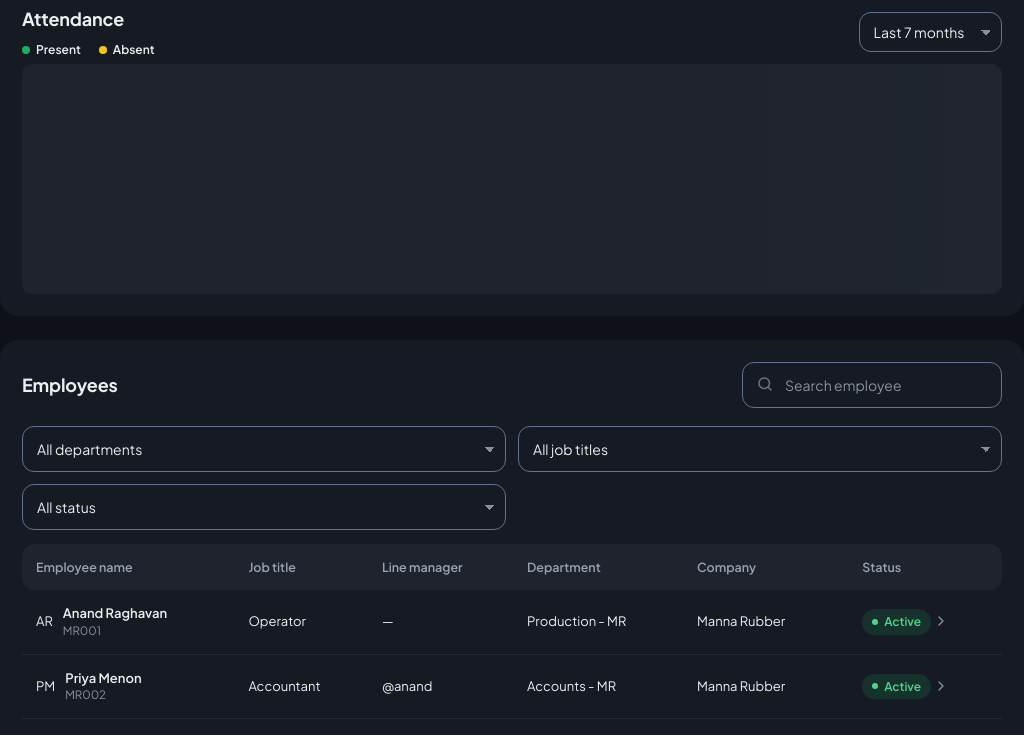
Test case: the front page › lists the active people five to a page, and finds one by name
The width and height of the screenshot is (1024, 735).
(page scrolled)
Type "Anand Raghavan" into the field named "Search employees" at x=872, y=385, box [742,362,1002,408]
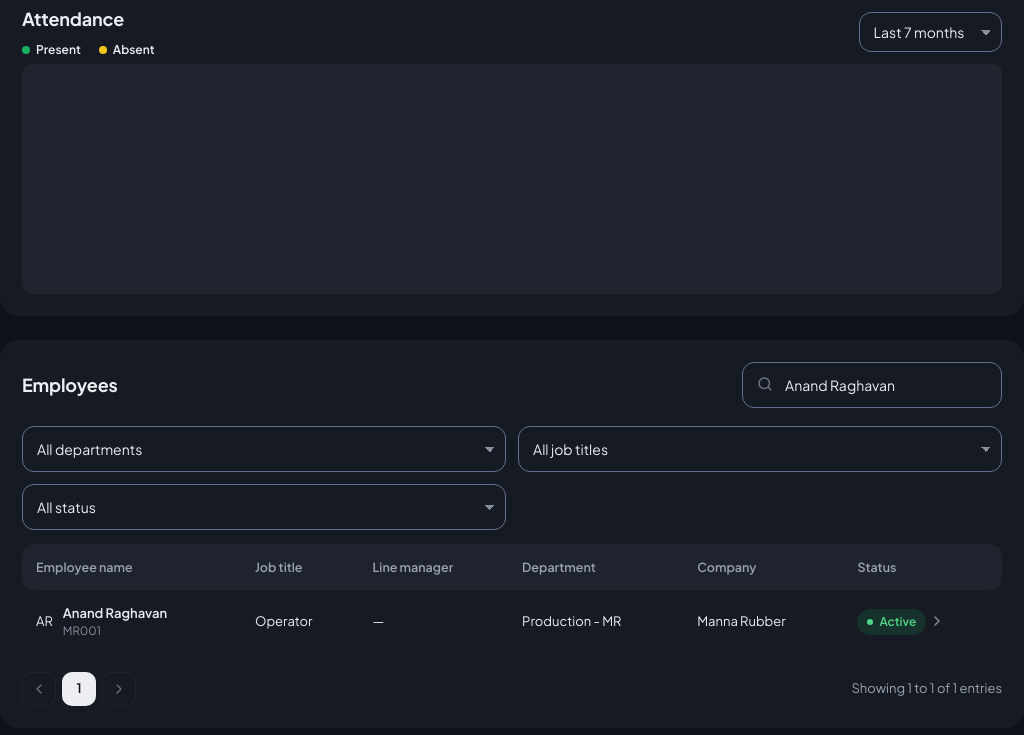
Replace the text in the field named "Search employees" with "zzzz" at x=872, y=385, box [742,362,1002,408]
(page scrolled)
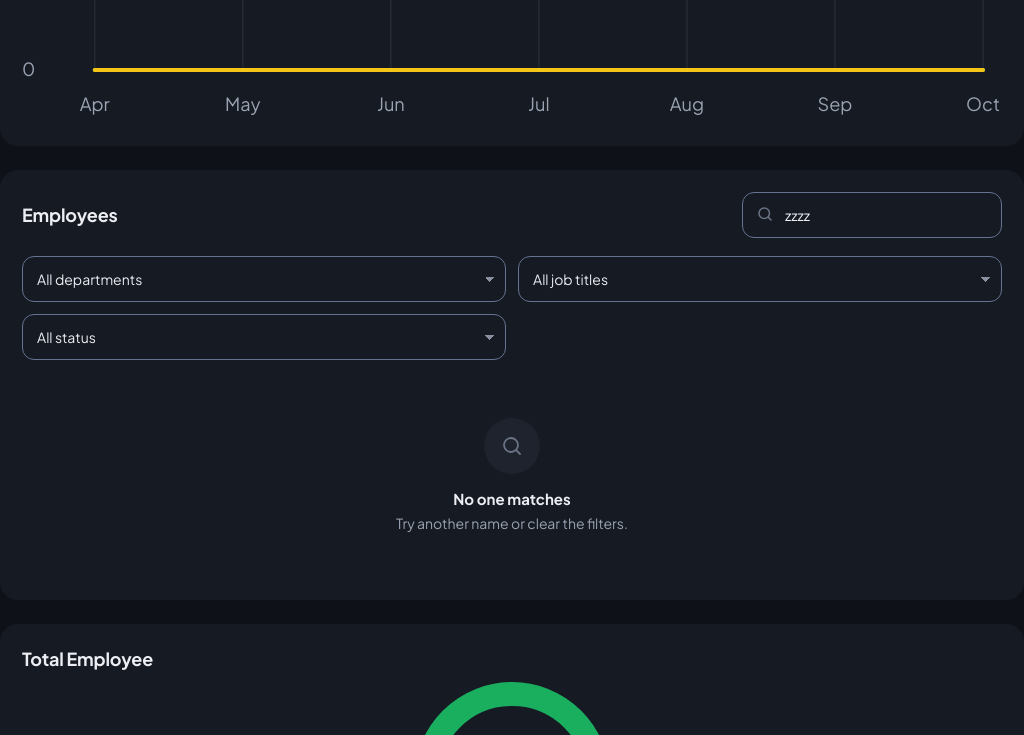
Check: the element with class "k-card" shows "No one matches", box [453,489,571,508]
